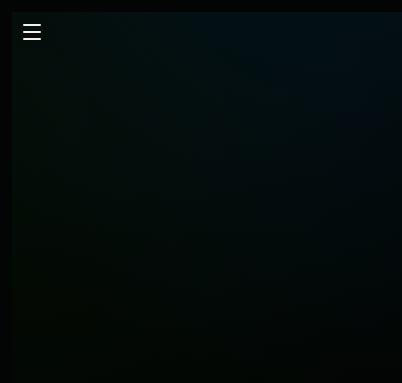
Test: MobileNavigation › opens and closes the mobile navigation
Later steps or results of the test are not shown.
What coordinates should you click on to do the following:
click the button named "Open navigation"
I would click on:
 (32, 32)
Its box is x1=12 y1=12 x2=52 y2=52.
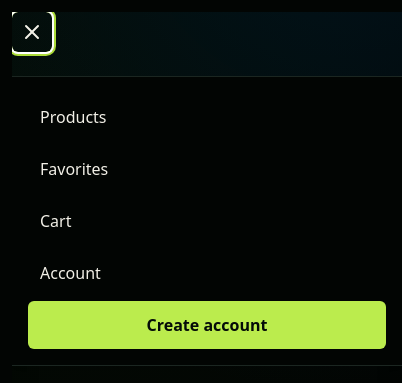
Result: the navigation bar named "Mobile navigation" is shown
